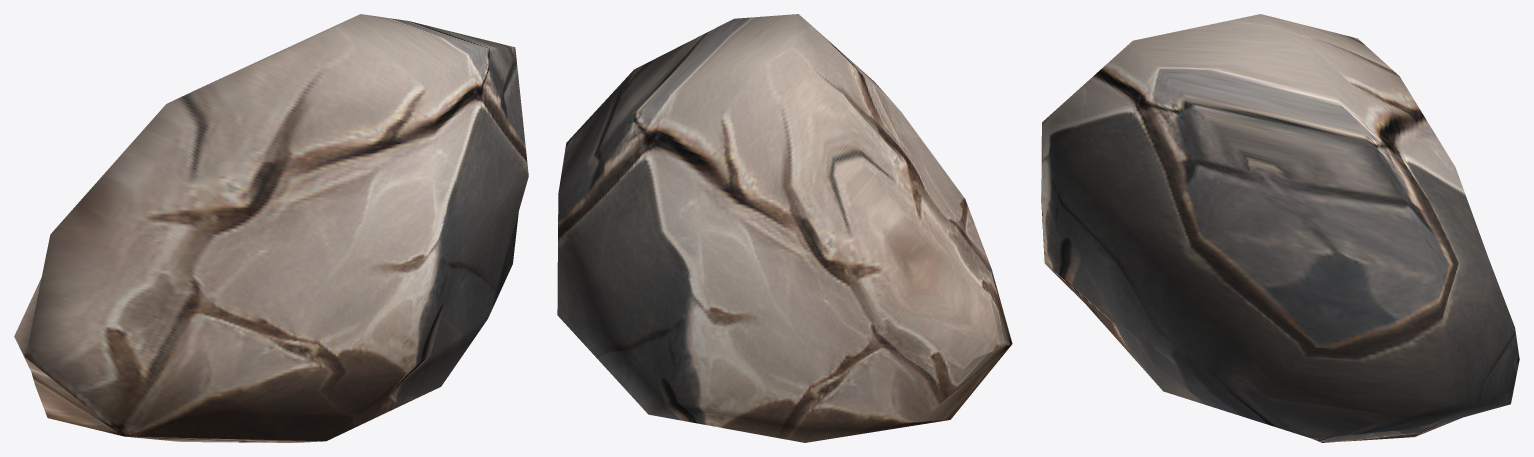
The model's file is pond_stone02.glb.
3 views of the same model, side by side, from view 1: azimuth 30°, elevation 25°; view 2: azimuth 150°, elevation 25°; view 3: azimuth 270°, elevation 25° (orthographic). The views are drawn at different scales.
Parts seen in each view (by area): view 1: stone_02_Log_rocks_0; view 2: stone_02_Log_rocks_0; view 3: stone_02_Log_rocks_0.
Boxes of the visible parts, x1,y1,x2,y2 form: stone_02_Log_rocks_0: (14,14,528,442); stone_02_Log_rocks_0: (557,14,1012,442); stone_02_Log_rocks_0: (1041,14,1519,442).
Bounding box in the file's own units: 0.1311 × 0.0931 × 0.1042.
1 material, 1 textured.
